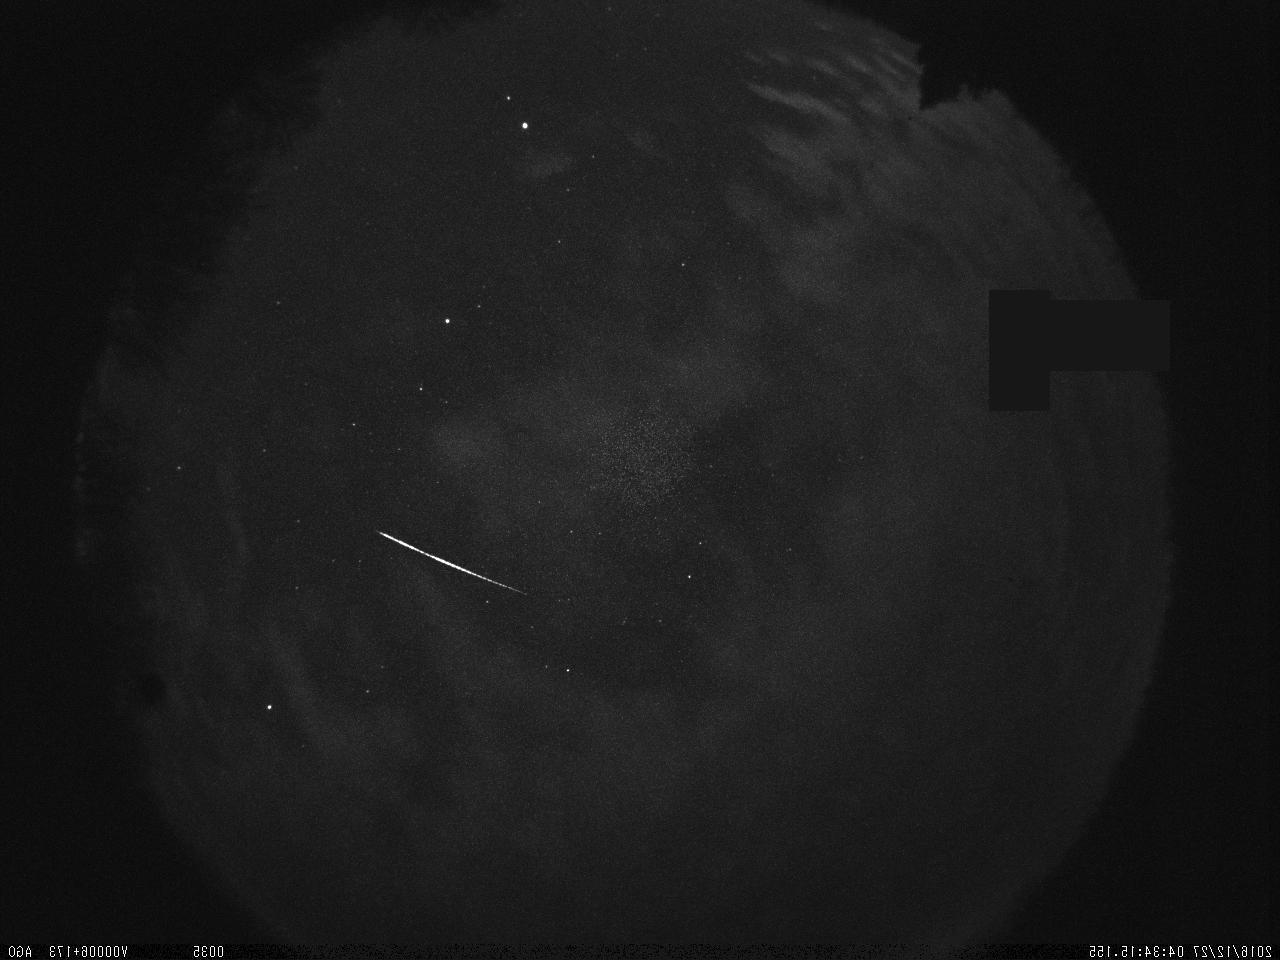meteor: (373, 527, 534, 601)
